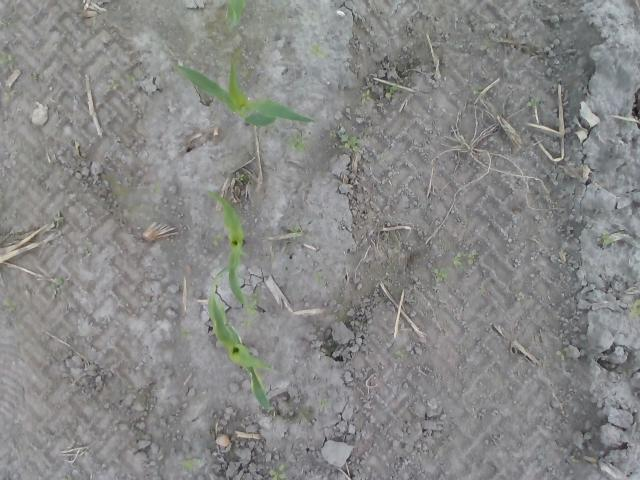Maize: (171, 52, 319, 127), (208, 276, 288, 411), (203, 188, 252, 312), (224, 1, 247, 23)
Weeds: (240, 294, 258, 324), (339, 132, 362, 152), (0, 297, 22, 313), (285, 138, 306, 154), (309, 44, 331, 58), (181, 458, 205, 470), (54, 278, 67, 300), (1, 50, 14, 70), (270, 464, 286, 480), (465, 249, 478, 267), (317, 400, 332, 415), (433, 267, 447, 283), (630, 299, 640, 320), (292, 218, 303, 237), (602, 230, 614, 246), (52, 212, 66, 225), (556, 346, 569, 360), (386, 84, 398, 99), (453, 252, 464, 268), (212, 232, 222, 249), (181, 329, 193, 343), (526, 98, 544, 107), (362, 89, 371, 104), (105, 80, 117, 91), (314, 272, 324, 285), (2, 90, 15, 100), (82, 244, 91, 258), (478, 286, 488, 296), (516, 292, 526, 302), (152, 184, 162, 193), (470, 84, 480, 93), (395, 350, 404, 359), (236, 172, 244, 182), (124, 74, 132, 83)
